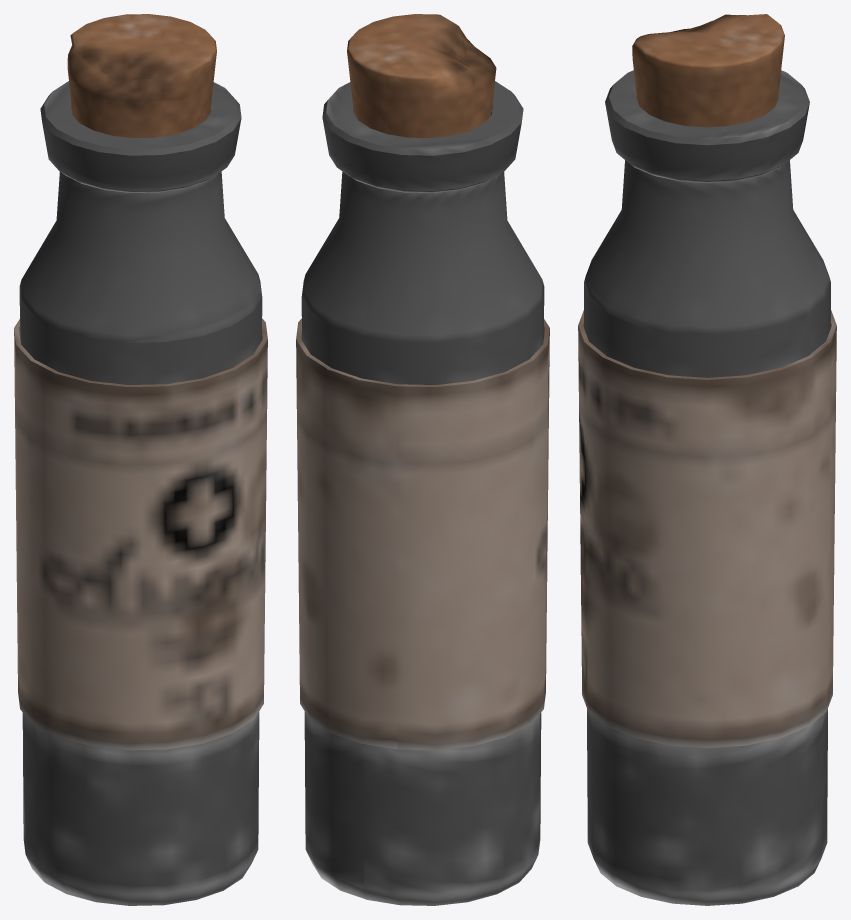
The model's file is Anti Venom.fbx.
The picture shows the model from 3 angles, left to right: view 1: azimuth 30°, elevation 25°; view 2: azimuth 150°, elevation 25°; view 3: azimuth 270°, elevation 25°; orthographic projection.
Visible parts, largest first — view 1: Anti Venom; view 2: Anti Venom; view 3: Anti Venom.
Boxes of the visible parts, x1,y1,x2,y2 form: Anti Venom: (14, 14, 267, 905); Anti Venom: (296, 14, 549, 905); Anti Venom: (578, 14, 836, 905).
Size of the model in its own units: 12.58 by 44.61 by 12.58.
Materials: 1 (1 with a texture image).
